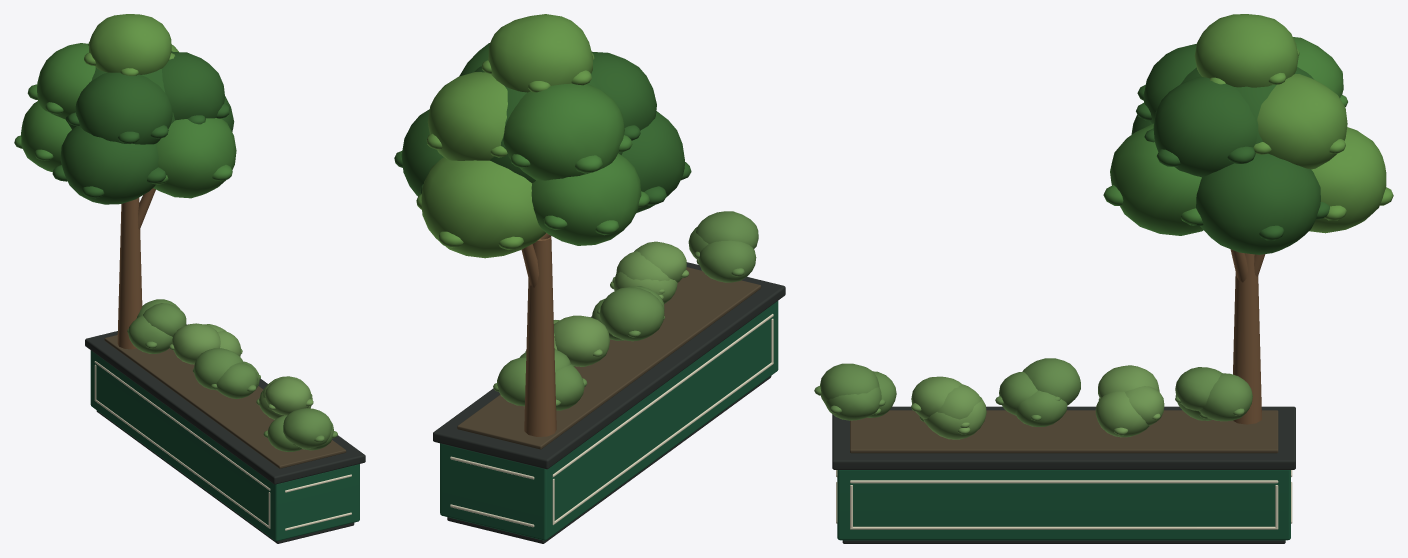
File: shop_planter.glb
3 views of the same model, side by side, from view 1: azimuth 30°, elevation 25°; view 2: azimuth 150°, elevation 25°; view 3: azimuth 270°, elevation 25° (orthographic). The views are drawn at different scales.
Parts seen in each view (by area): view 1: Box, Soil, Rim, Crown04, Crown13, Crown00, Crown20, Crown10, Trunk, Crown12, Crown03, Shrub42 (+10 smaller); view 2: Box, Soil, Crown02, Rim, Crown12, Crown03, Crown20, Crown11, Trunk, Crown04, Crown13, Shrub22 (+14 smaller); view 3: Box, Soil, Rim, Crown01, Crown10, Crown11, Crown00, Crown20, Crown02, Trunk, Crown13, Feet (+17 smaller).
Part boxes in pixels (x1=…): Box: x1=90, y1=350, x2=359, y2=541; Soil: x1=104, y1=335, x2=346, y2=468; Rim: x1=85, y1=324, x2=365, y2=484; Crown04: x1=60, y1=126, x2=158, y2=204; Crown13: x1=75, y1=72, x2=172, y2=144; Crown00: x1=153, y1=118, x2=236, y2=198; Crown20: x1=89, y1=14, x2=171, y2=74; Crown10: x1=162, y1=52, x2=224, y2=120; Trunk: x1=117, y1=197, x2=142, y2=349; Crown12: x1=37, y1=43, x2=95, y2=119; Crown03: x1=21, y1=101, x2=71, y2=172; Shrub42: x1=283, y1=408, x2=331, y2=449; Box: x1=440, y1=301, x2=778, y2=540; Soil: x1=457, y1=267, x2=761, y2=449; Crown02: x1=421, y1=157, x2=545, y2=258; Rim: x1=433, y1=262, x2=785, y2=469; Crown12: x1=503, y1=83, x2=624, y2=180; Crown03: x1=531, y1=153, x2=641, y2=245; Crown20: x1=488, y1=14, x2=592, y2=92; Crown11: x1=427, y1=72, x2=507, y2=160; Trunk: x1=524, y1=236, x2=556, y2=436; Crown04: x1=621, y1=111, x2=684, y2=212; Crown13: x1=591, y1=51, x2=656, y2=130; Shrub22: x1=599, y1=287, x2=664, y2=341; Box: x1=837, y1=470, x2=1290, y2=540; Soil: x1=850, y1=410, x2=1278, y2=453; Rim: x1=832, y1=406, x2=1295, y2=469; Crown01: x1=1196, y1=153, x2=1320, y2=254; Crown10: x1=1153, y1=76, x2=1257, y2=177; Crown11: x1=1257, y1=74, x2=1347, y2=169; Crown00: x1=1110, y1=123, x2=1203, y2=235; Crown20: x1=1194, y1=14, x2=1298, y2=87; Crown02: x1=1309, y1=127, x2=1386, y2=233; Trunk: x1=1233, y1=253, x2=1261, y2=424; Crown13: x1=1143, y1=44, x2=1196, y2=124; Feet: x1=842, y1=540, x2=1285, y2=543.
Bounding box in the file's own units: 1.29 × 2.54 × 2.72.
